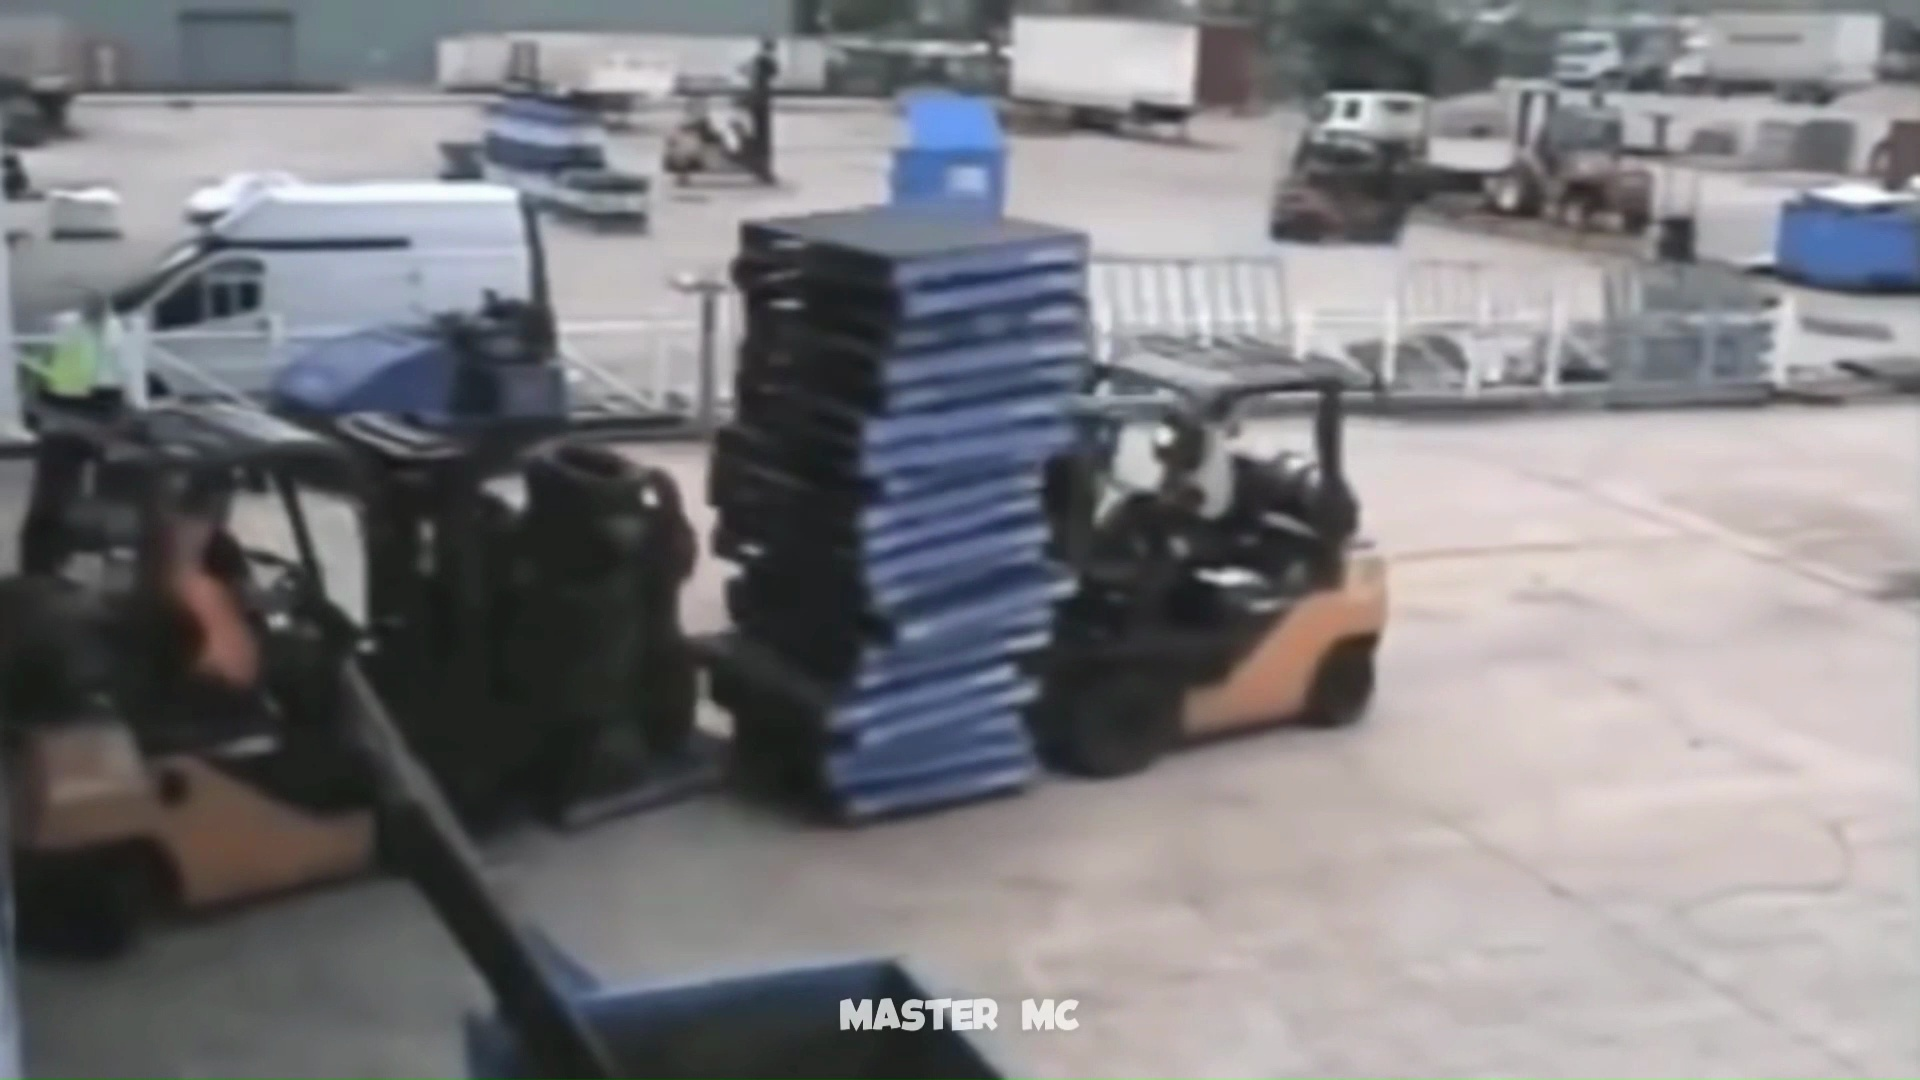forklift: (708, 214, 1398, 825), (1, 388, 758, 922)
